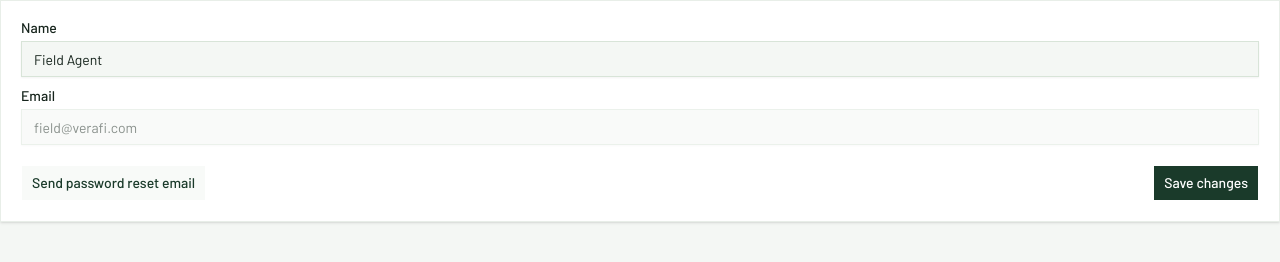
UserSettingsForm › requests a password reset and shows a generic confirmation, not the token
Click the button "Send password reset email" at (114, 183), box [21,165,206,201]
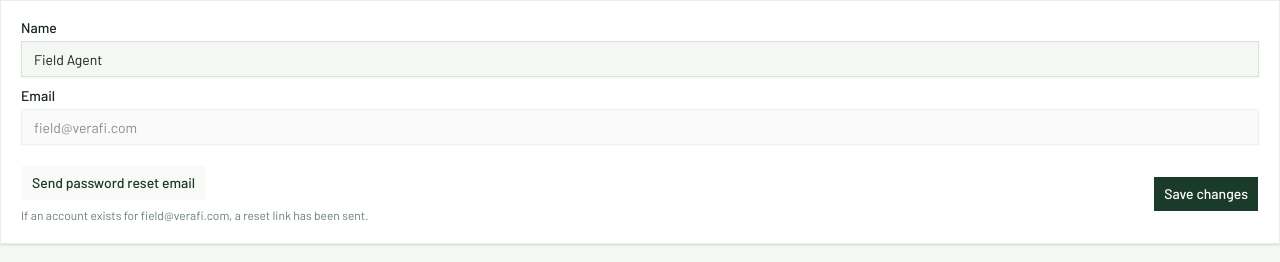
Expected: the text "reset link has been sent" is shown, [229,208,369,222]
